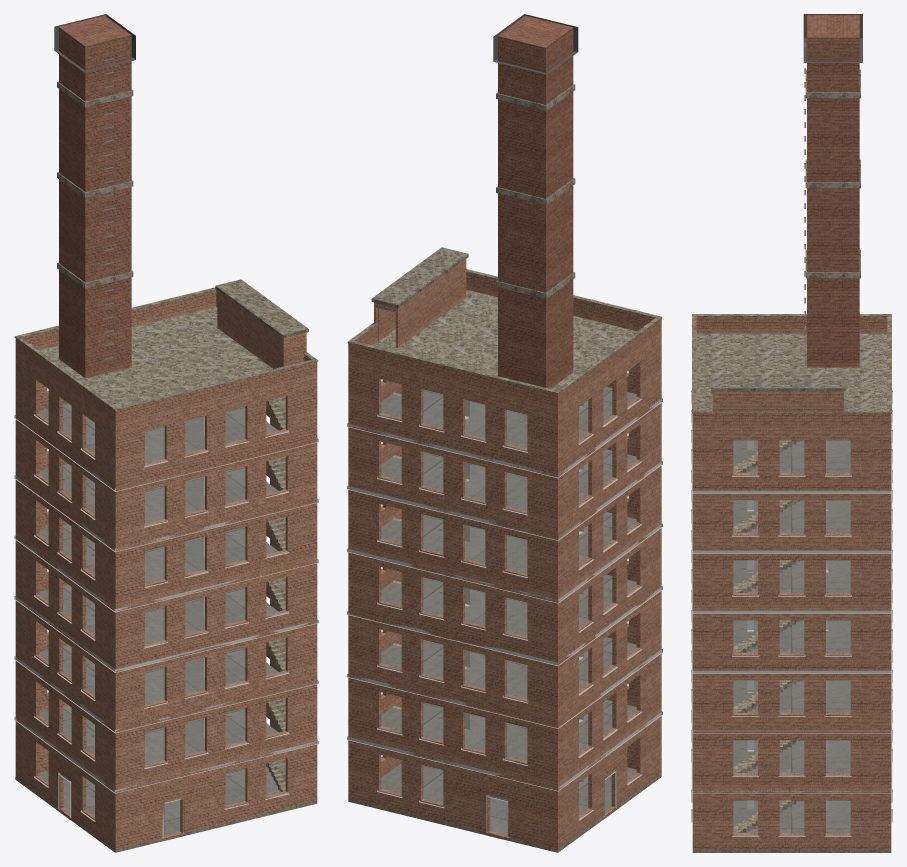
The model's file is ew-boiler-tower.windows-v1.lod0.glb.
The picture shows the model from 3 angles, left to right: view 1: azimuth 30°, elevation 25°; view 2: azimuth 150°, elevation 25°; view 3: azimuth 270°, elevation 25°; orthographic projection. The views are drawn at different scales.
Visible parts, largest first — view 1: ew-boiler-tower; view 2: ew-boiler-tower; view 3: ew-boiler-tower.
Boxes of the visible parts, <box> form: ew-boiler-tower: <box>14,14,318,852</box>; ew-boiler-tower: <box>347,14,662,852</box>; ew-boiler-tower: <box>691,14,892,852</box>.
Bounding box in the file's own units: 14.2 × 50.23 × 12.2.
4 materials, 3 textured.
